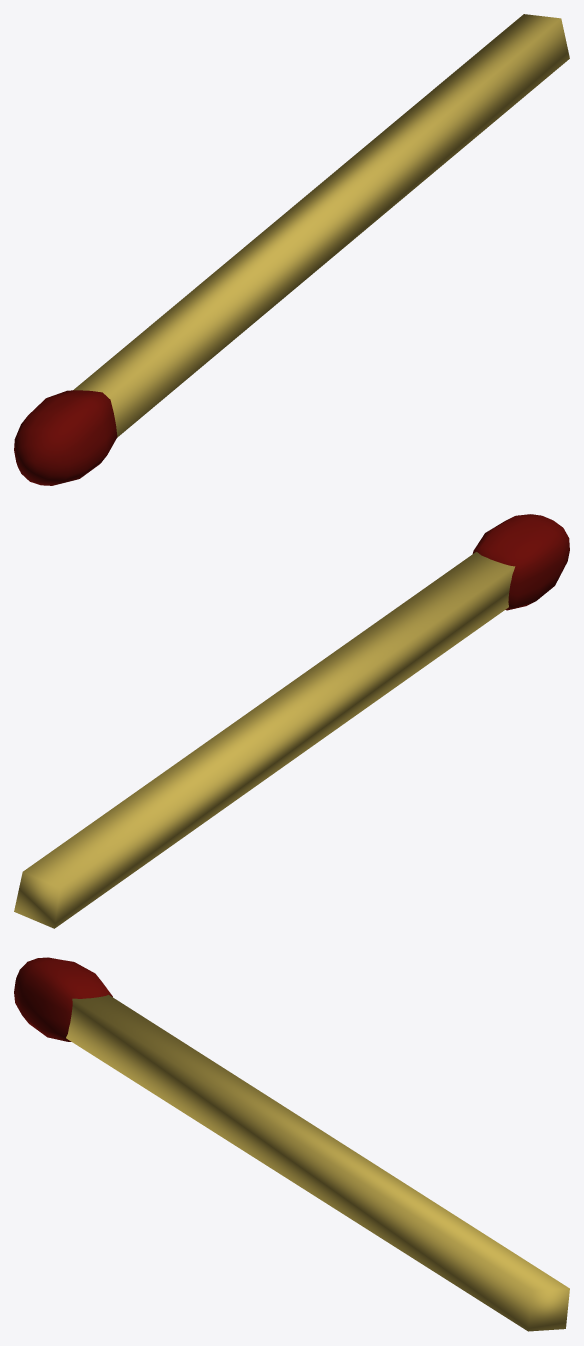
The picture shows the model from 3 angles, top to bottom: view 1: azimuth 30°, elevation 25°; view 2: azimuth 210°, elevation 25°; view 3: azimuth 270°, elevation 25°; orthographic projection. The views are drawn at different scales.
Parts seen in each view (by area): view 1: Sphere.004; view 2: Sphere.004; view 3: Sphere.004.
Boxes of the visible parts, x1,y1,x2,y2 form: Sphere.004: [14, 14, 569, 485]; Sphere.004: [14, 514, 569, 928]; Sphere.004: [14, 957, 569, 1331].
Bounding box in the file's own units: 0.5 × 0.0527 × 0.3168.
